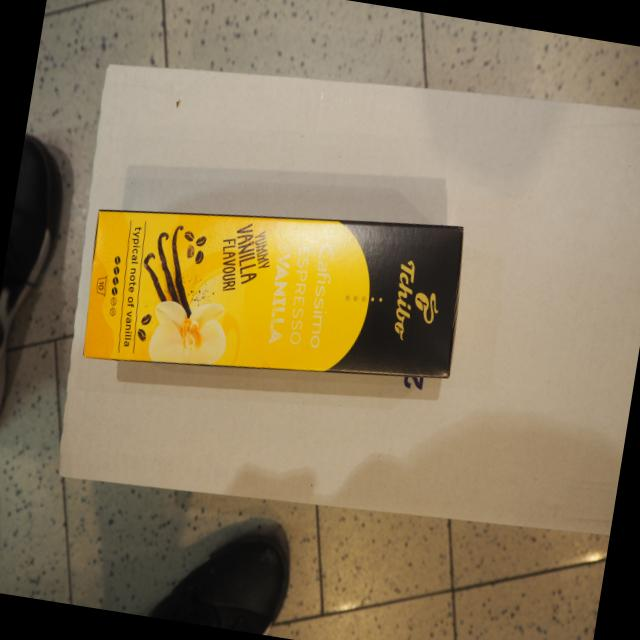Simo Es Vanilla: (82, 206, 467, 385)
